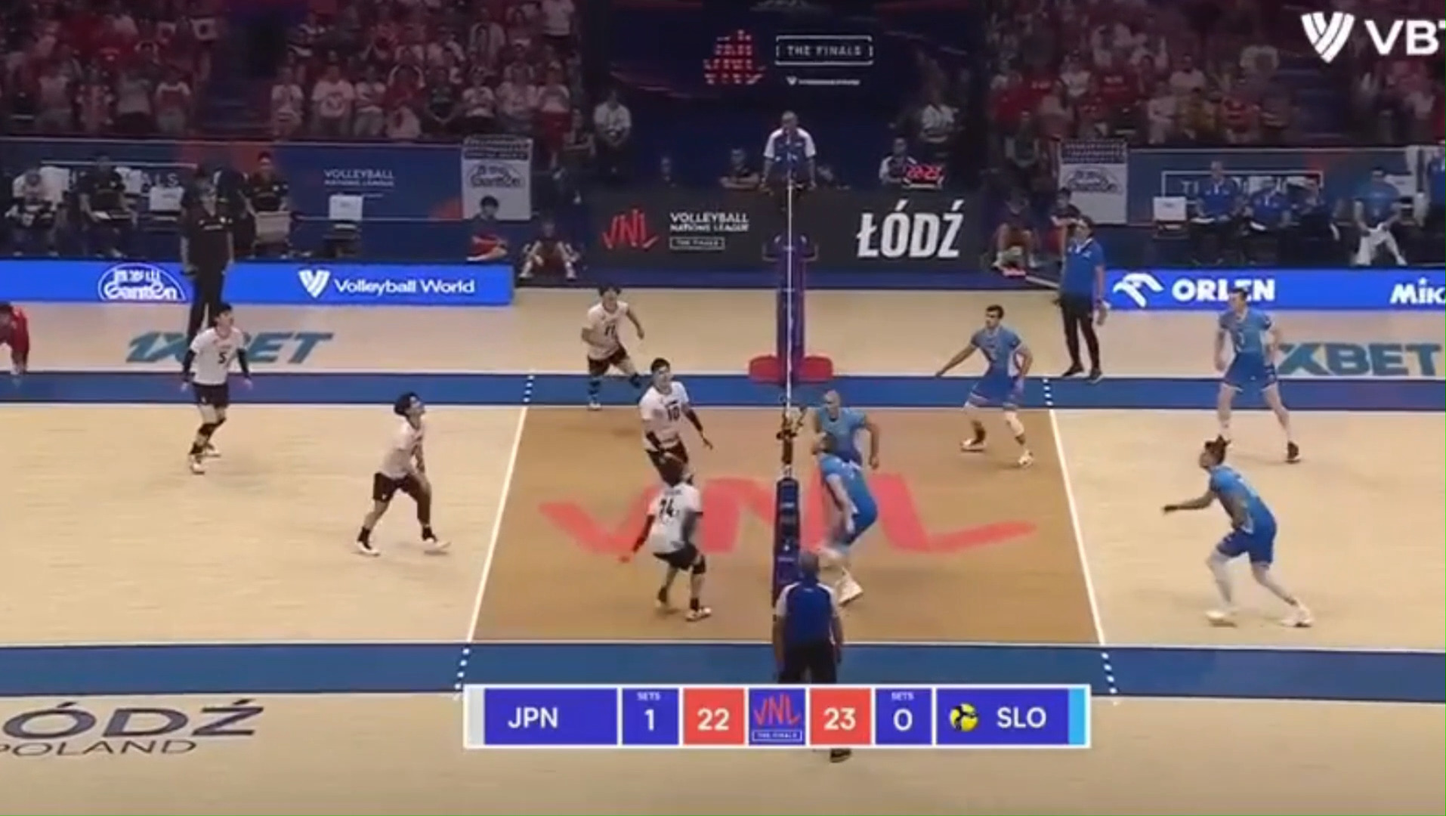1: (773, 550, 842, 684), (1058, 216, 1107, 381)
player: (1162, 437, 1312, 627), (936, 304, 1033, 466), (1215, 287, 1299, 462), (817, 438, 878, 604), (812, 390, 878, 468)
player 1: (356, 392, 446, 555), (631, 459, 711, 620), (182, 303, 249, 474), (638, 358, 711, 481), (579, 286, 645, 410)
referee: (760, 111, 815, 274), (181, 177, 235, 341)
